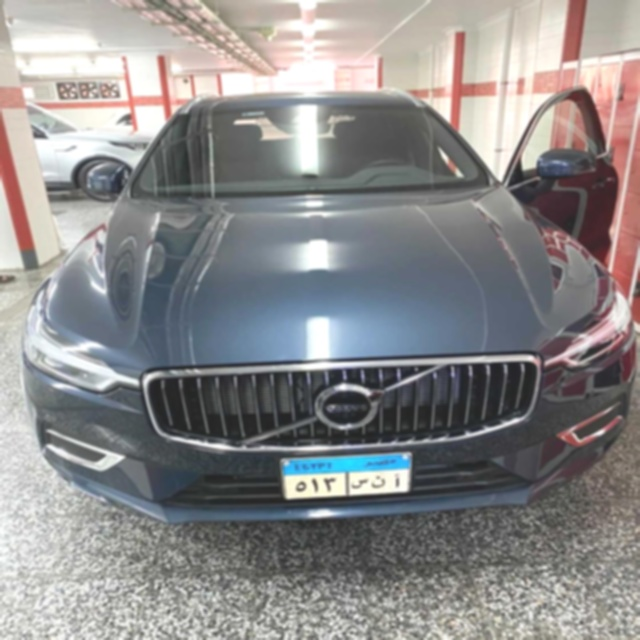License Plate: (279, 449, 420, 503)
